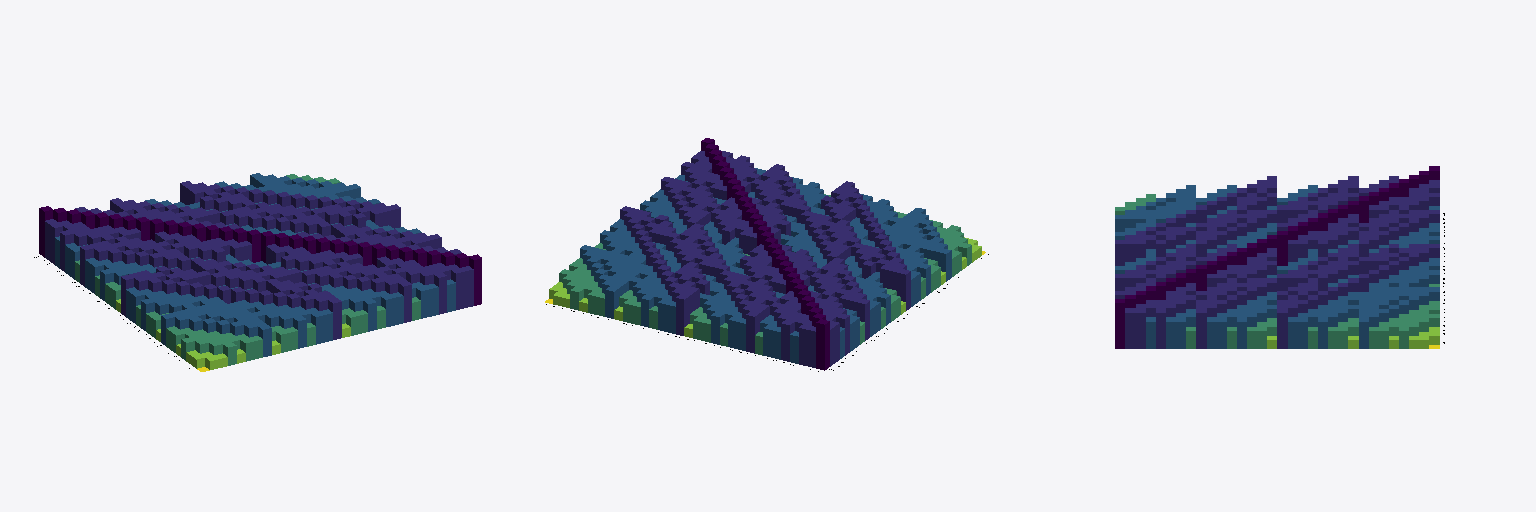
3 views of the same model, side by side, from view 1: azimuth 30°, elevation 25°; view 2: azimuth 150°, elevation 25°; view 3: azimuth 270°, elevation 25° (orthographic).
Parts seen in each view (by area): view 1: none; view 2: Object(1,1)[length_5]; view 3: none.
Boxes of the visible parts, x1=… form: Object(1,1)[length_5]: x1=816, y1=319, x2=829, y2=370.
Size of the model in its own units: 32.85 by 5 by 32.5.